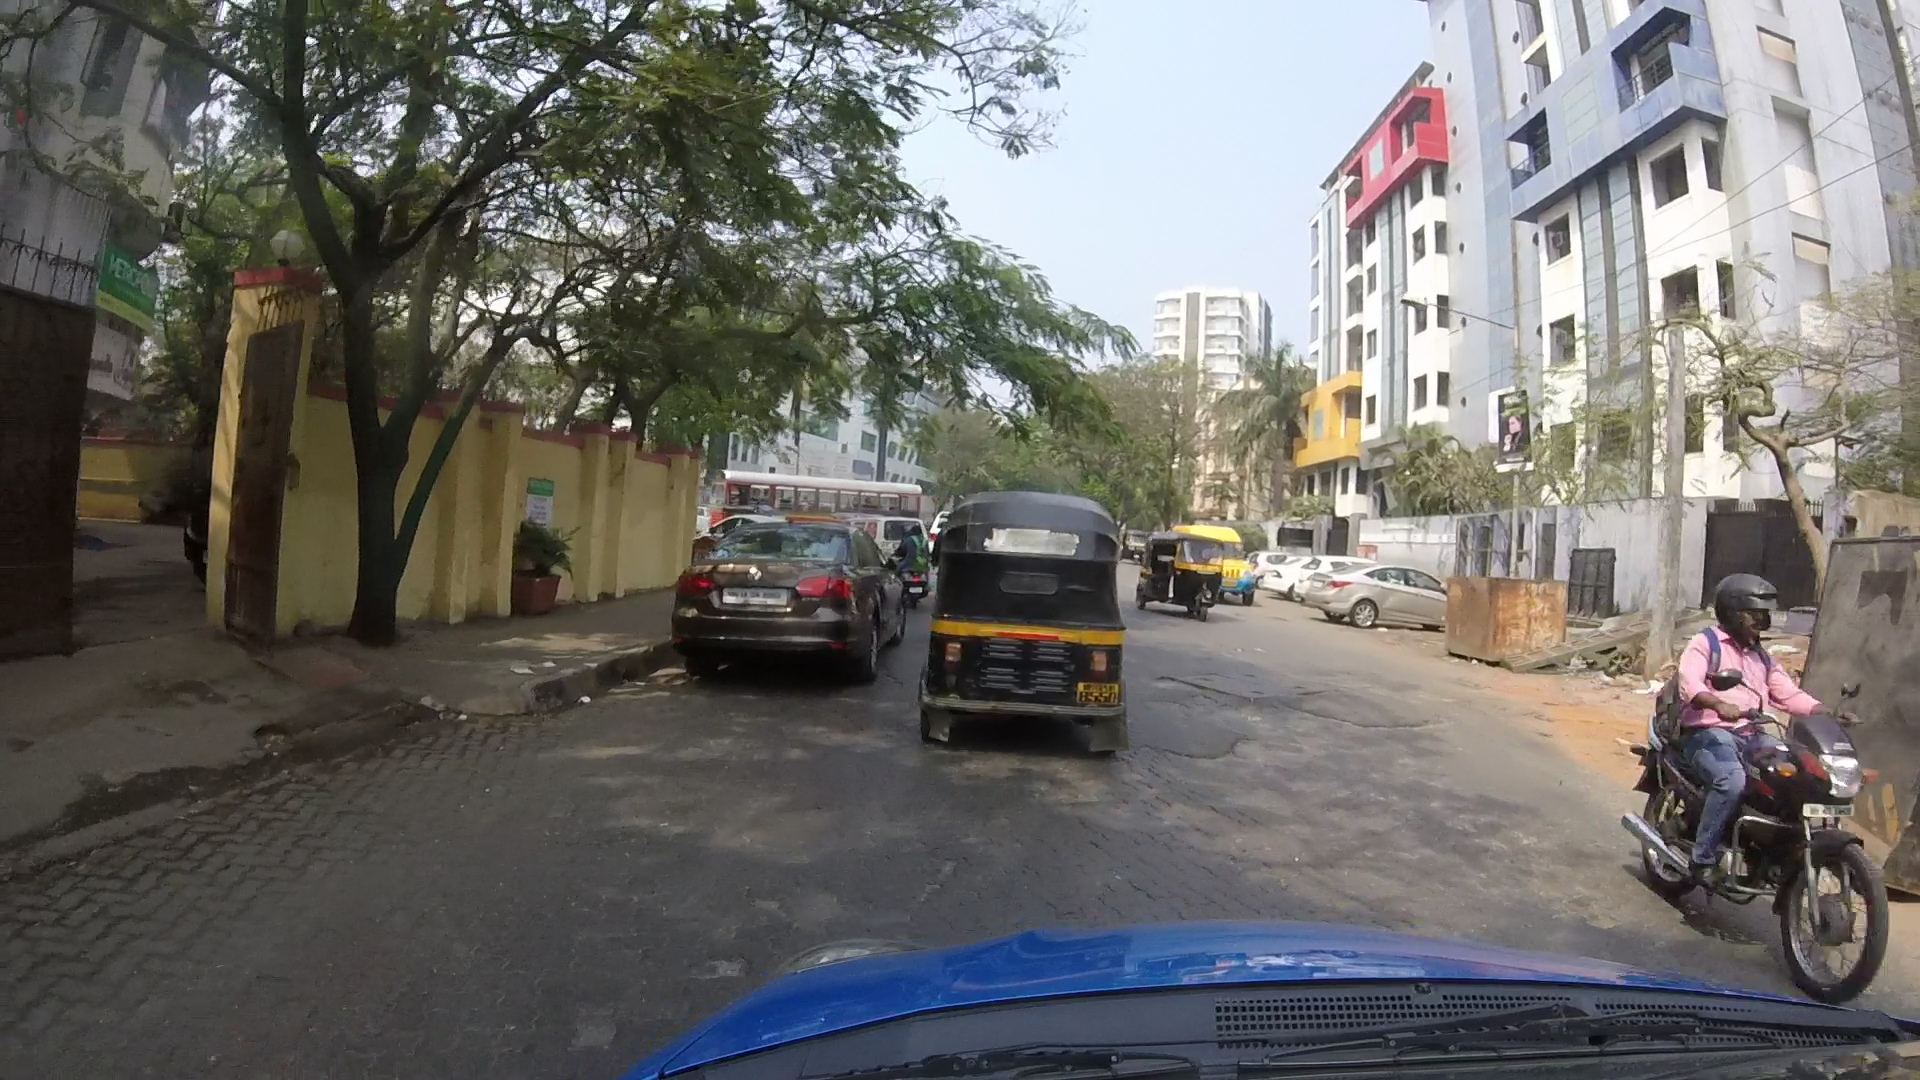bike/scooter: (1636, 566, 1905, 998)
car: (669, 510, 901, 683), (1325, 554, 1458, 640)
rickshaw: (928, 495, 1122, 760), (1127, 530, 1211, 618)
